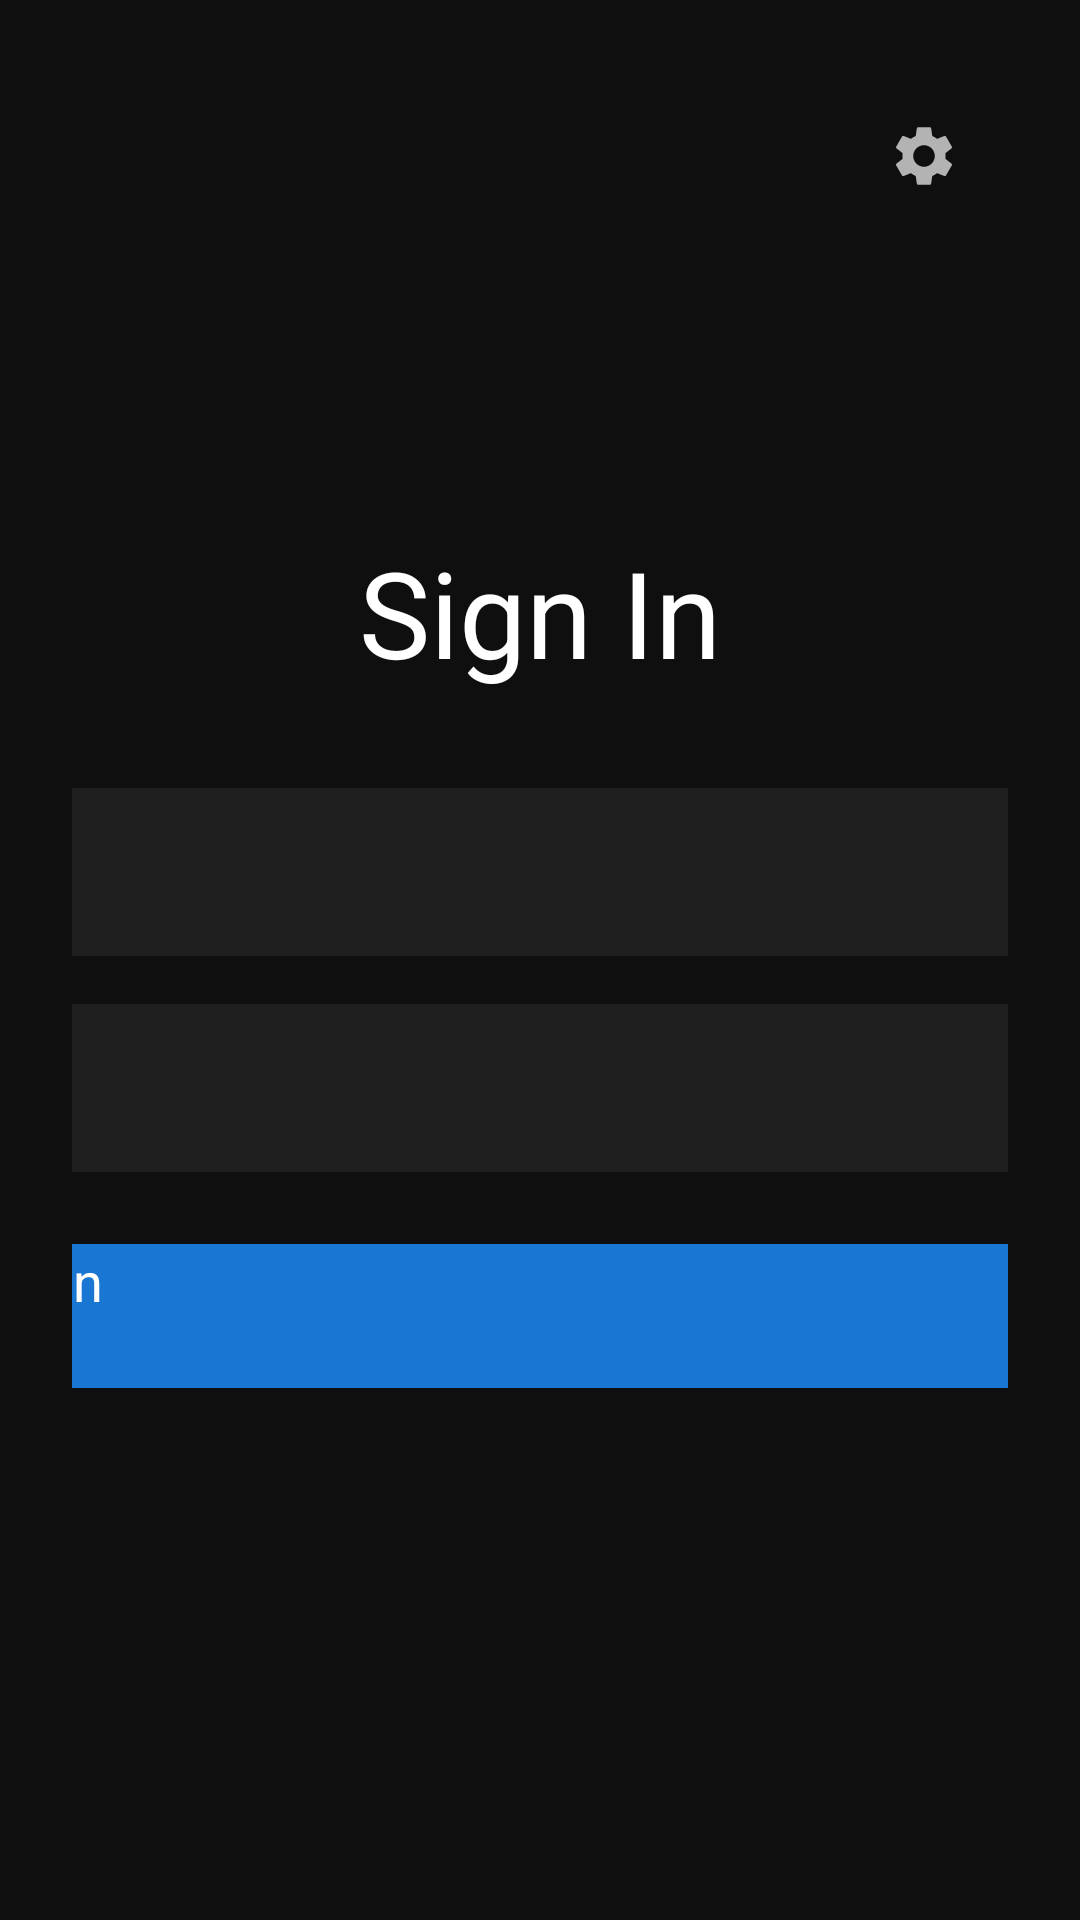

Named icons in this screenshot (1080px×1920px) and their centers, point (x, y):
Server Configuration: point (924, 156)
